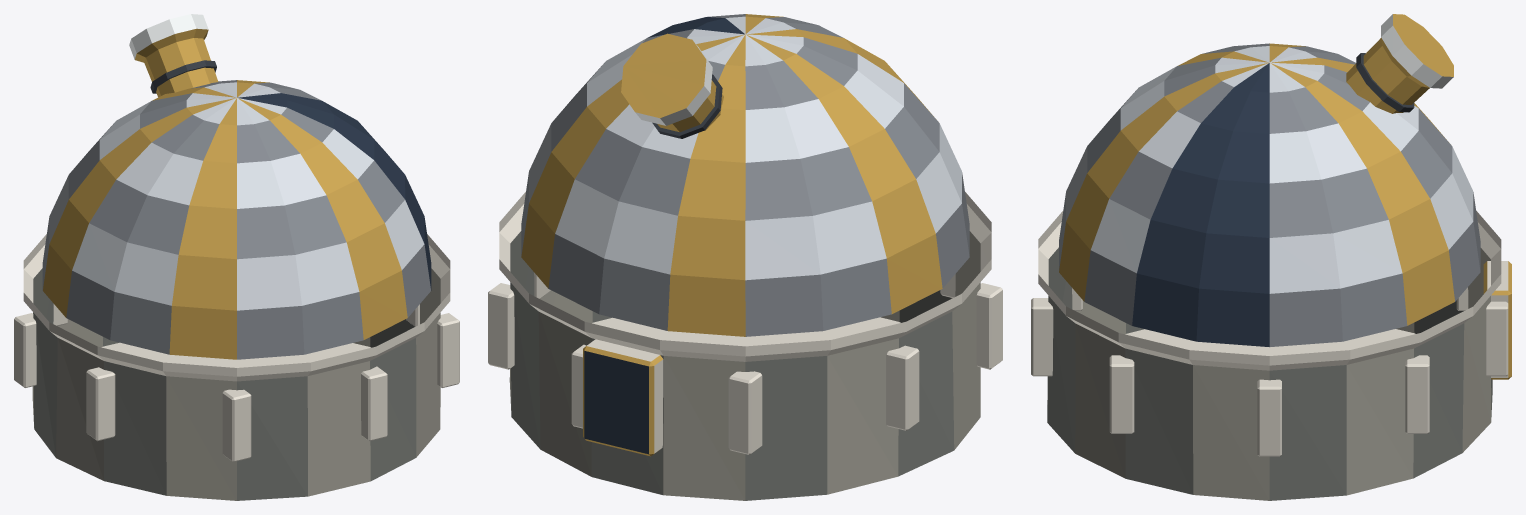
File: Observatory.obj
3 views of the same model, side by side, from view 1: azimuth 30°, elevation 25°; view 2: azimuth 150°, elevation 25°; view 3: azimuth 270°, elevation 25° (orthographic). The views are drawn at different scales.
Bounding box in the file's own units: 13.6 × 12.15 × 13.7.
